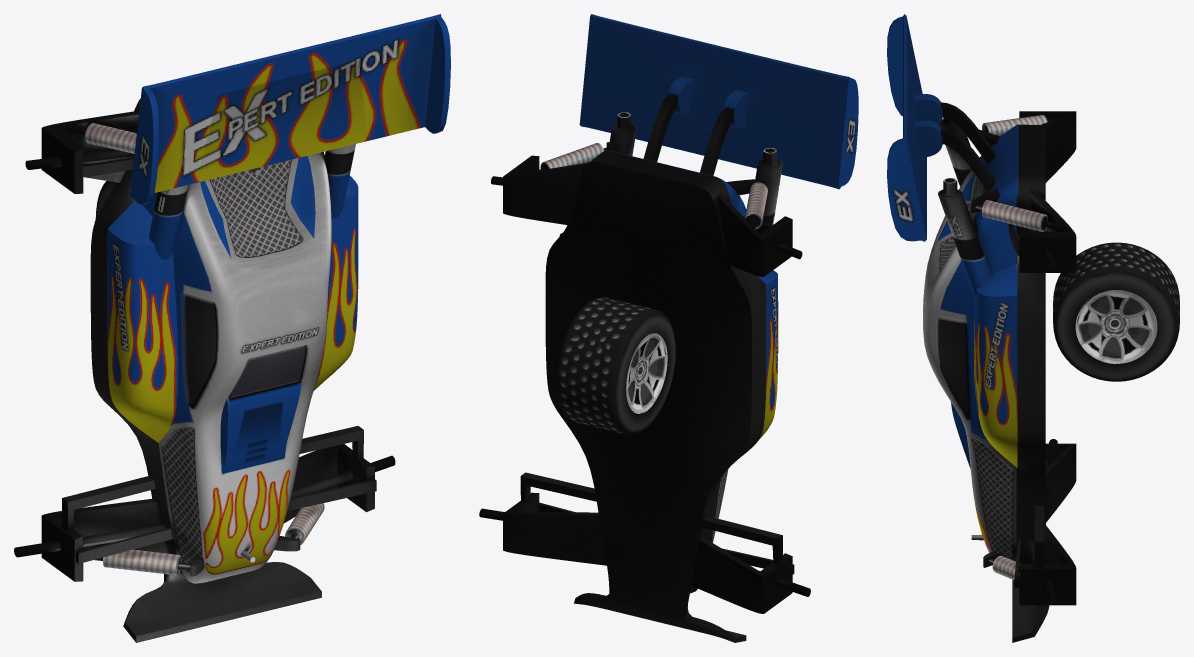
File: 10600_RC_Car_animated.obj
The picture shows the model from 3 angles, left to right: view 1: azimuth 30°, elevation 25°; view 2: azimuth 150°, elevation 25°; view 3: azimuth 270°, elevation 25°; orthographic projection. The views are drawn at different scales.
Visible parts, largest first — view 1: body; view 2: body, wheel-front-right, wheel-back-right, wheel-back-left; view 3: body, wheel-front-right, wheel-back-right, wheel-back-left.
Boxes of the visible parts, <box> form: body: <box>14,14,450,642</box>; body: <box>479,14,858,642</box>; wheel-front-right: <box>556,300,675,434</box>; wheel-back-right: <box>558,297,661,434</box>; wheel-back-left: <box>556,301,661,434</box>; body: <box>887,14,1076,642</box>; wheel-front-right: <box>1054,269,1178,381</box>; wheel-back-right: <box>1053,242,1179,381</box>; wheel-back-left: <box>1053,252,1179,375</box>.
Size of the model in its own units: 22.95 by 35.9 by 18.05.
Materials: 1 (1 with a texture image).
